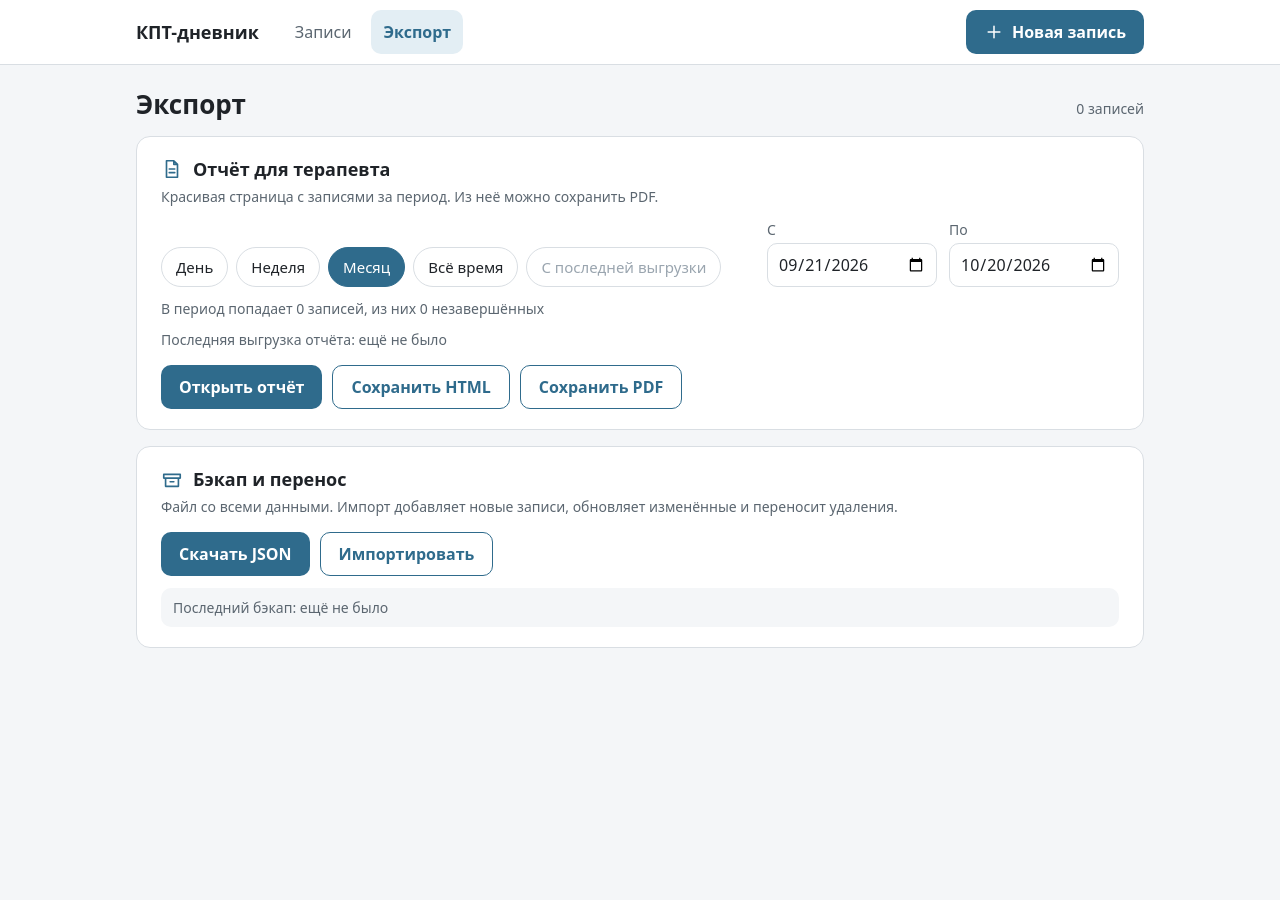
Scenario: preset week fills dates
The width and height of the screenshot is (1280, 900).
Expected: the date field labelled "С" holds "2026-09-21", [767,243,937,287]
Click the button "Неделя".
click(278, 267)  # box [236,247,320,287]
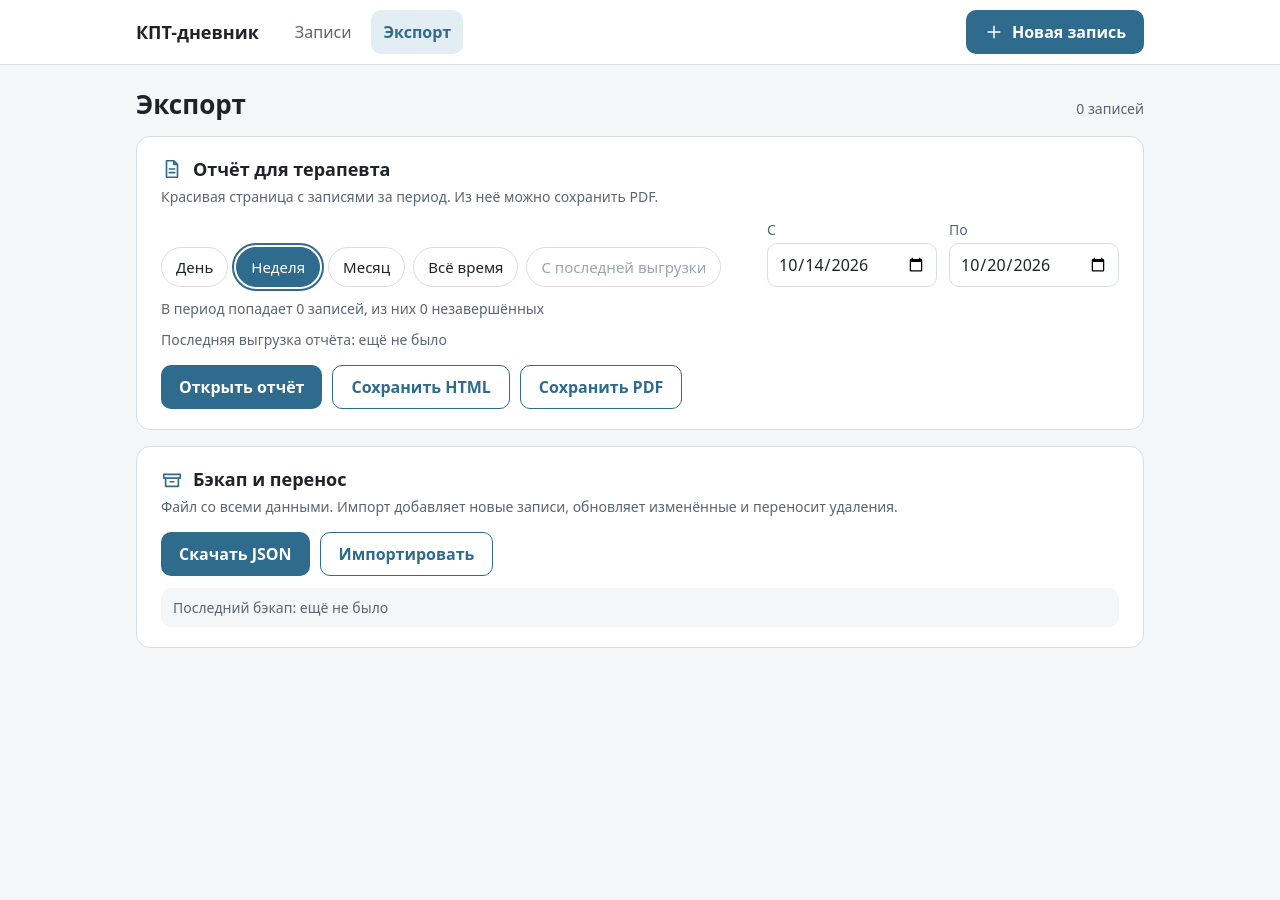
Expected: the date field labelled "По" holds "2026-10-20", [949,243,1119,287]
Result: the date field labelled "С" holds "2026-10-14" at [767,243,937,287]
